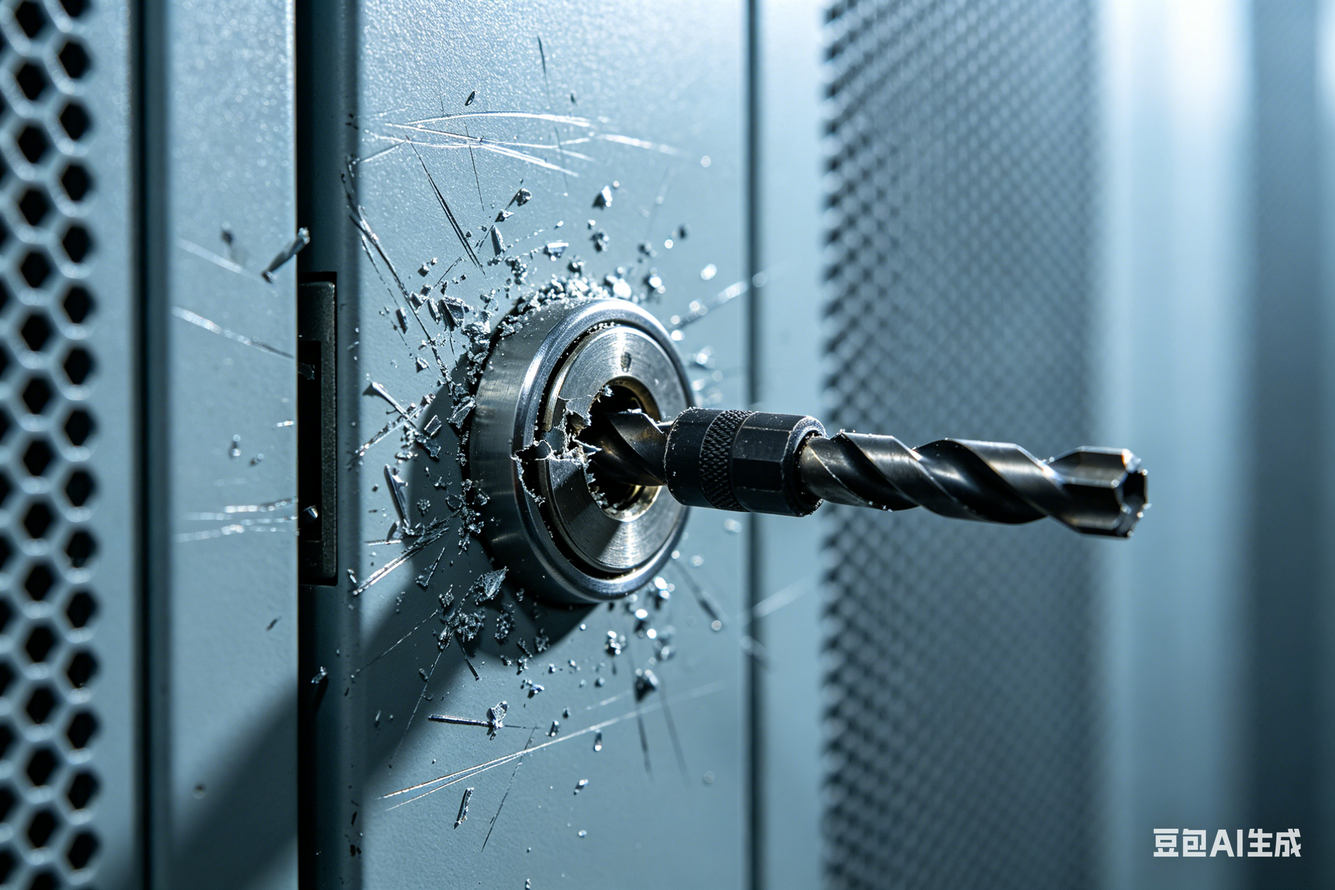BadLock: (537, 358, 688, 535)
